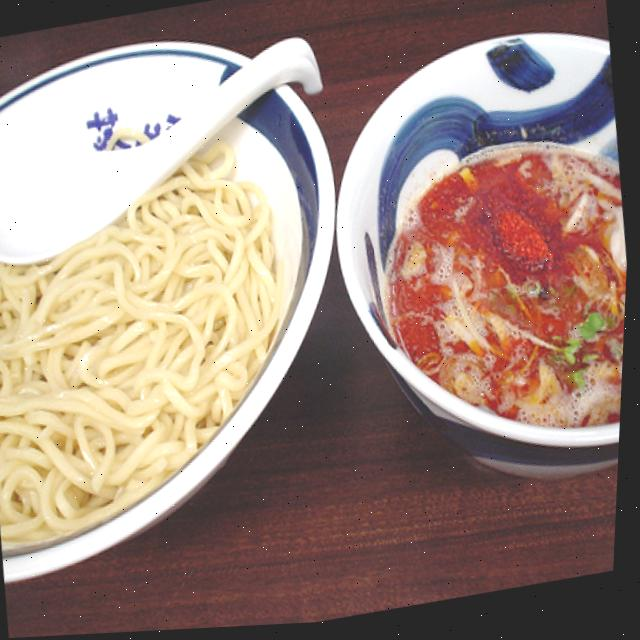面条主食: (0, 60, 637, 567)
